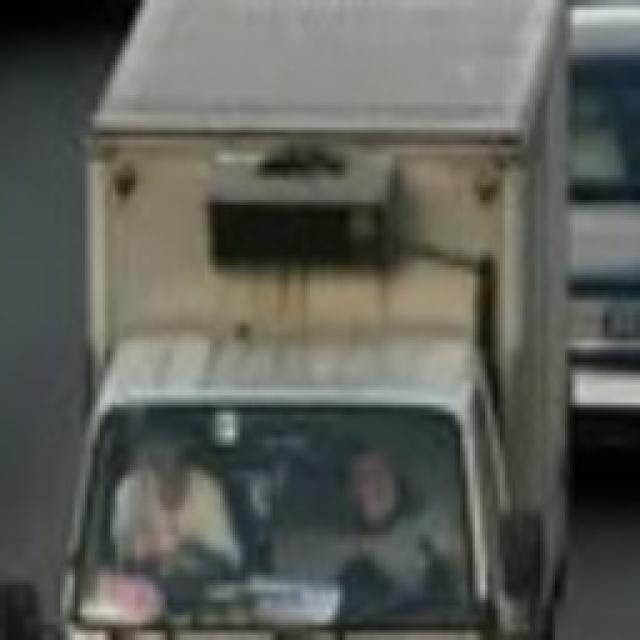windshield: (71, 399, 487, 638)
